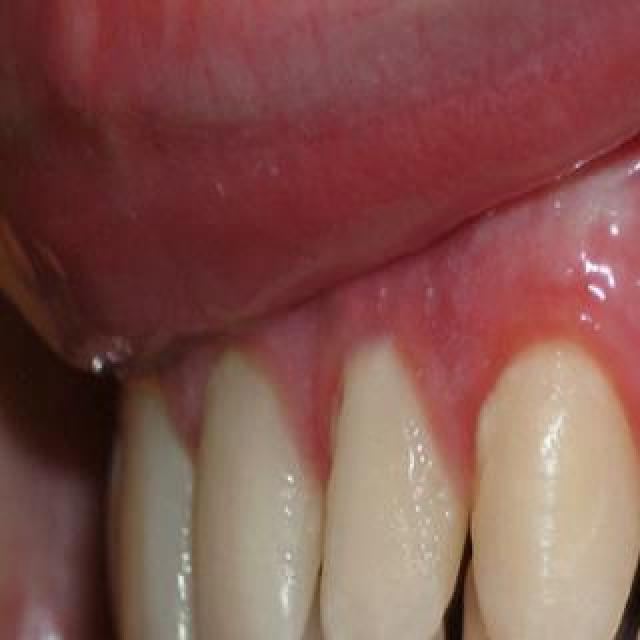plaque: (473, 341, 627, 563), (298, 332, 454, 534), (185, 358, 311, 496)
spacing: (434, 484, 508, 640), (614, 458, 640, 618), (584, 634, 640, 640)
